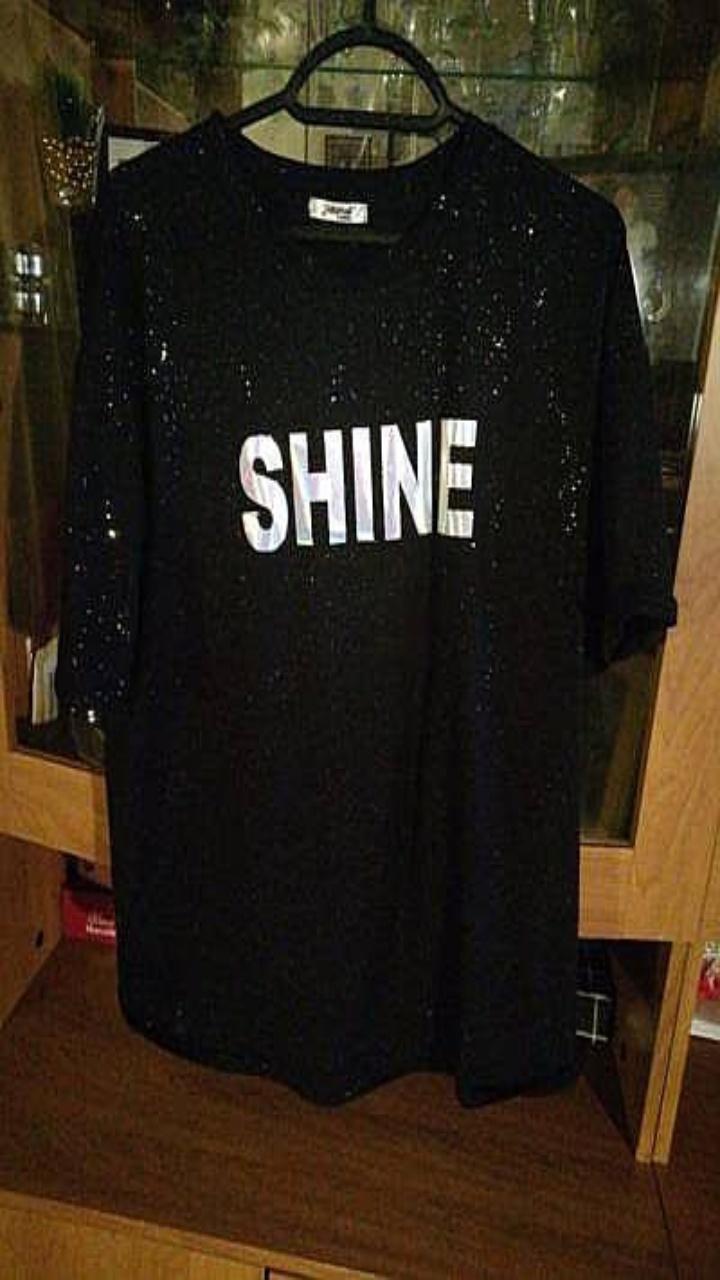T-Shirt: (56, 112, 676, 1105)
